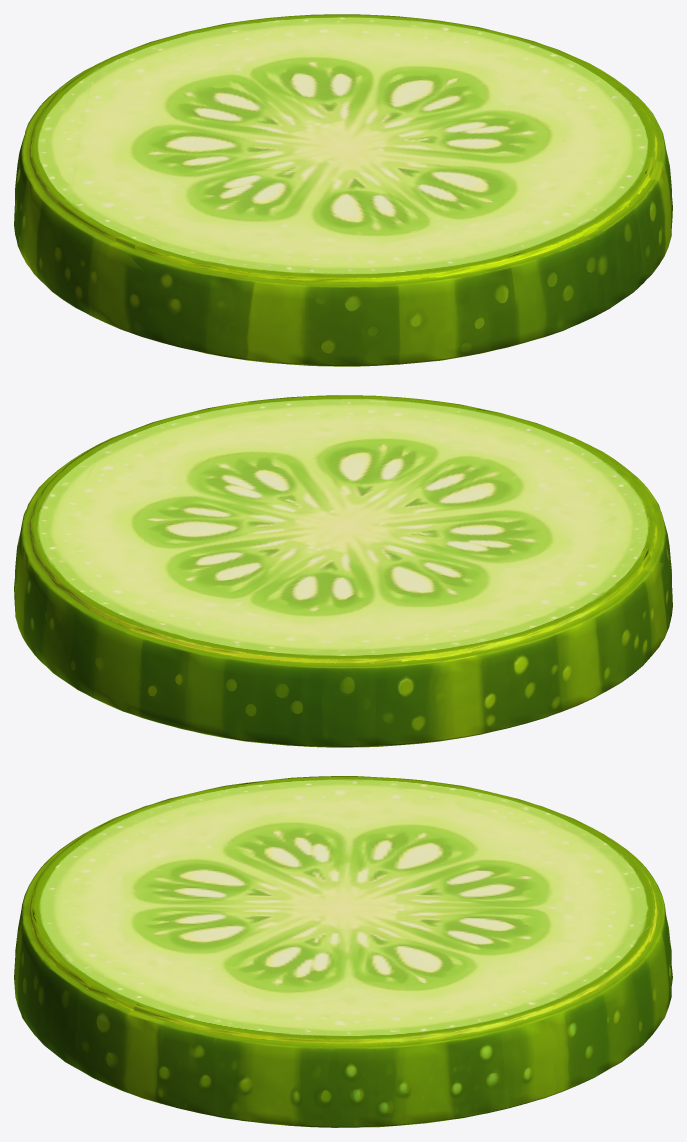
The model's file is cucubmer_slice.fbx.
3 views of the same model, one above another, from view 1: azimuth 30°, elevation 25°; view 2: azimuth 150°, elevation 25°; view 3: azimuth 270°, elevation 25° (orthographic).
Visible parts, largest first — view 1: Mesh_0.034; view 2: Mesh_0.034; view 3: Mesh_0.034.
Boxes of the visible parts, x1,y1,x2,y2 form: Mesh_0.034: (14, 14, 672, 366); Mesh_0.034: (14, 395, 672, 747); Mesh_0.034: (14, 776, 672, 1127).
Size of the model in its own units: 38.12 by 5.56 by 38.12.
1 material, 1 textured.
